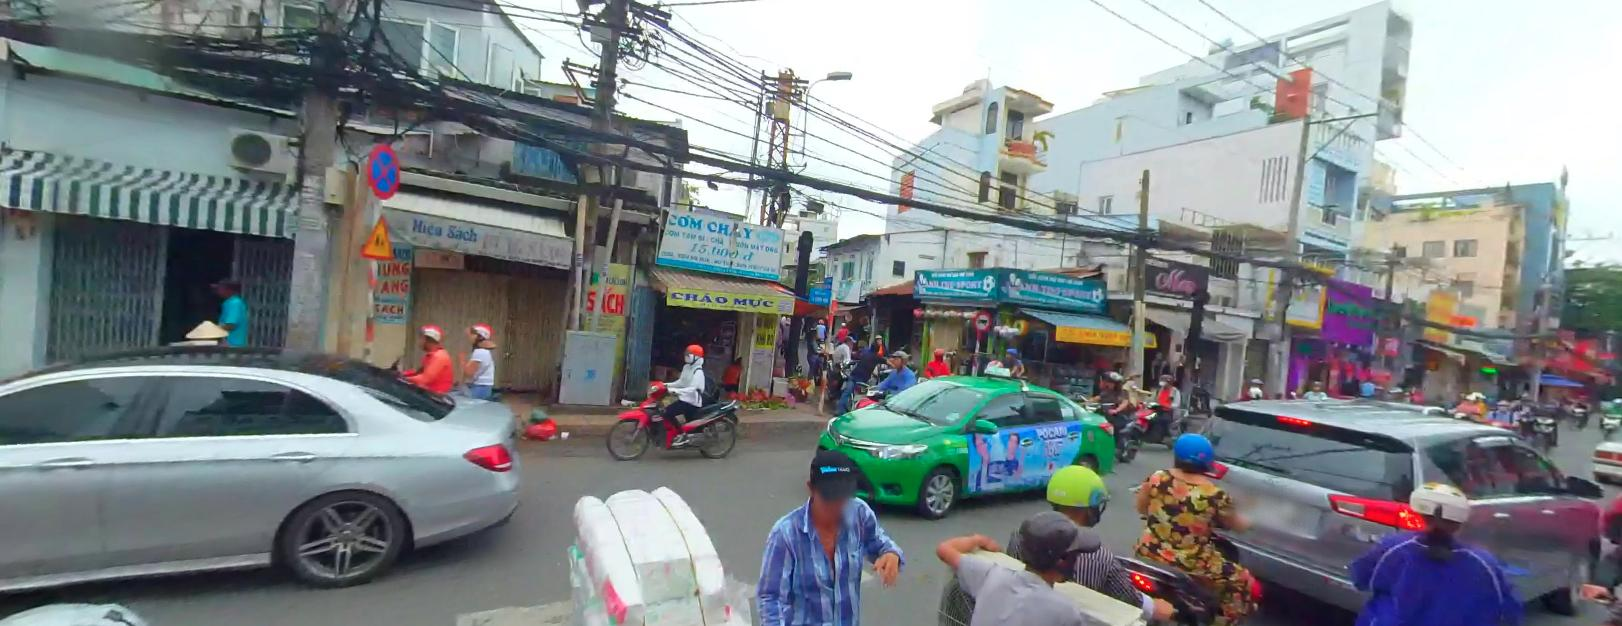Cam con lai: (973, 310, 991, 330)
Cam dung va do: (367, 141, 400, 199)
Nguy hiem: (359, 211, 396, 259)
